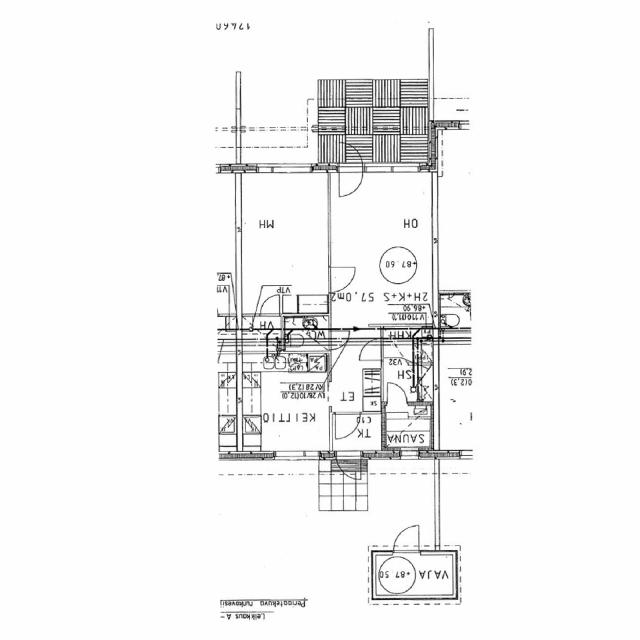door: (336, 450, 360, 484), (393, 524, 419, 554), (340, 162, 362, 195), (340, 139, 362, 172), (328, 267, 355, 292), (335, 412, 360, 439), (359, 338, 384, 360), (388, 381, 408, 405), (328, 331, 349, 349), (261, 295, 279, 316)
